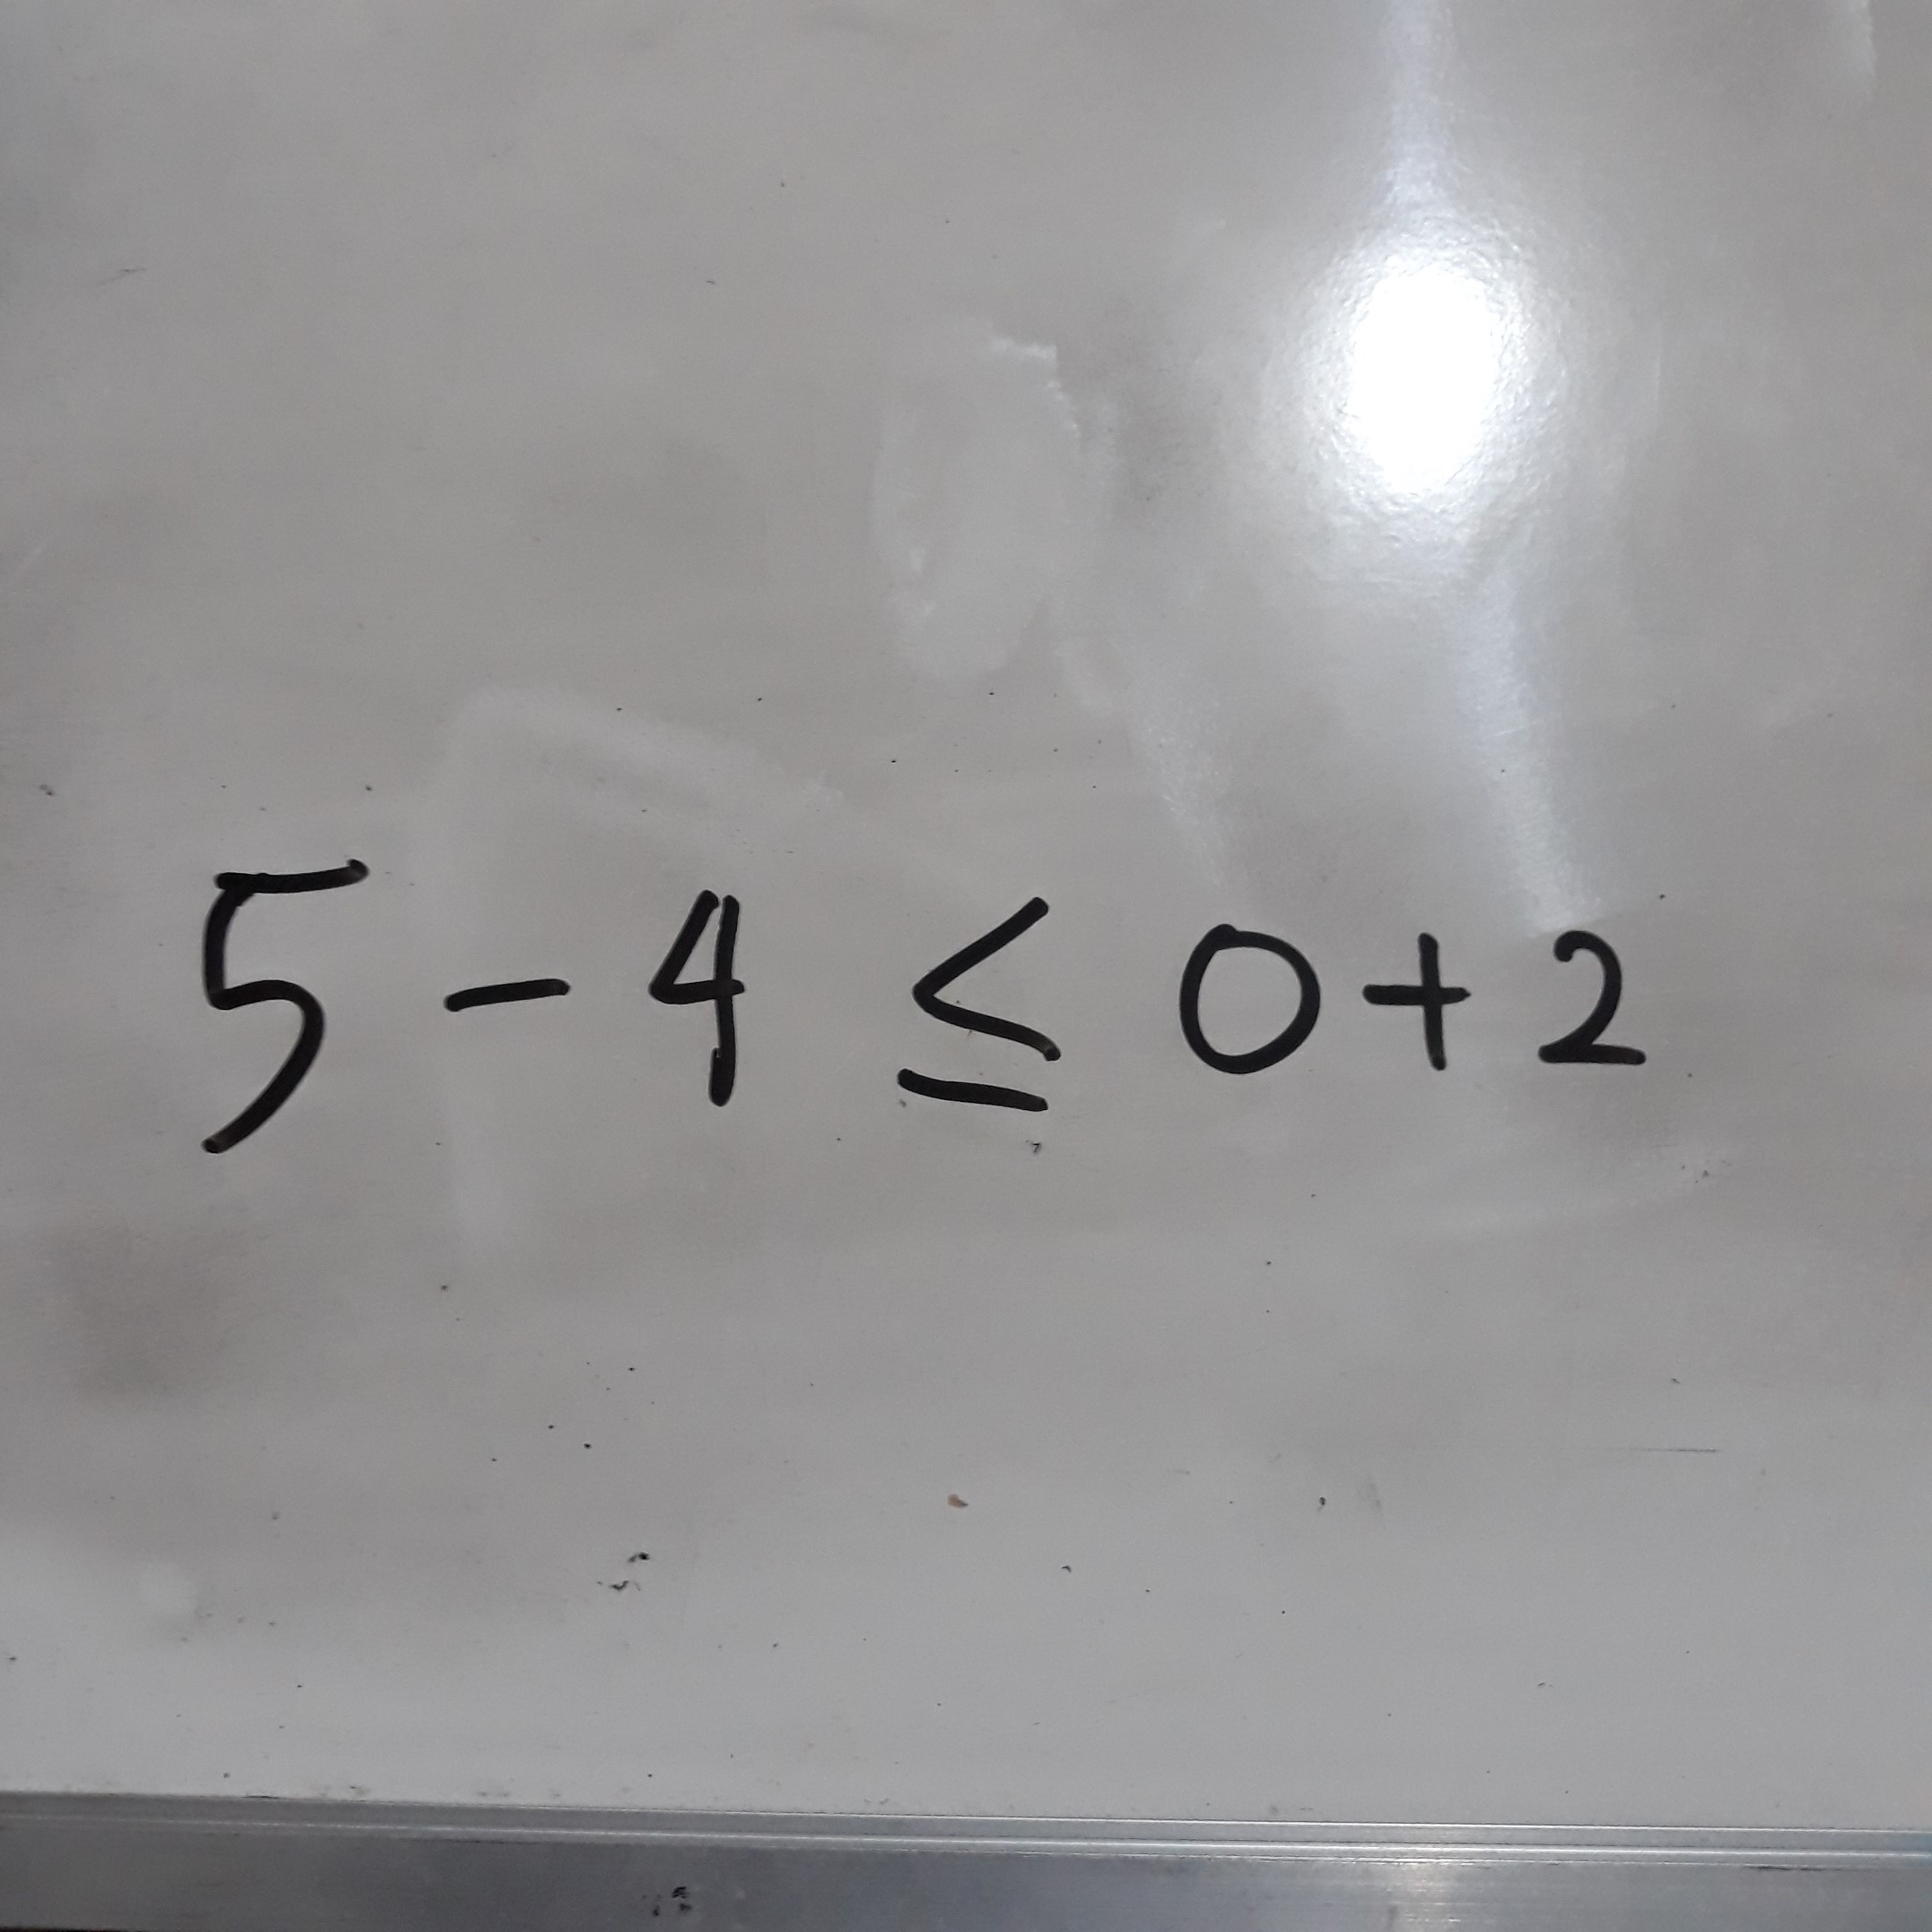lessthan-equal: (888, 858, 1066, 1133)
min: (420, 945, 591, 1031)
num0: (1157, 904, 1333, 1089)
num2: (1519, 907, 1673, 1082)
num4: (623, 852, 801, 1128)
num5: (181, 821, 382, 1173)
sum: (1344, 912, 1498, 1088)
